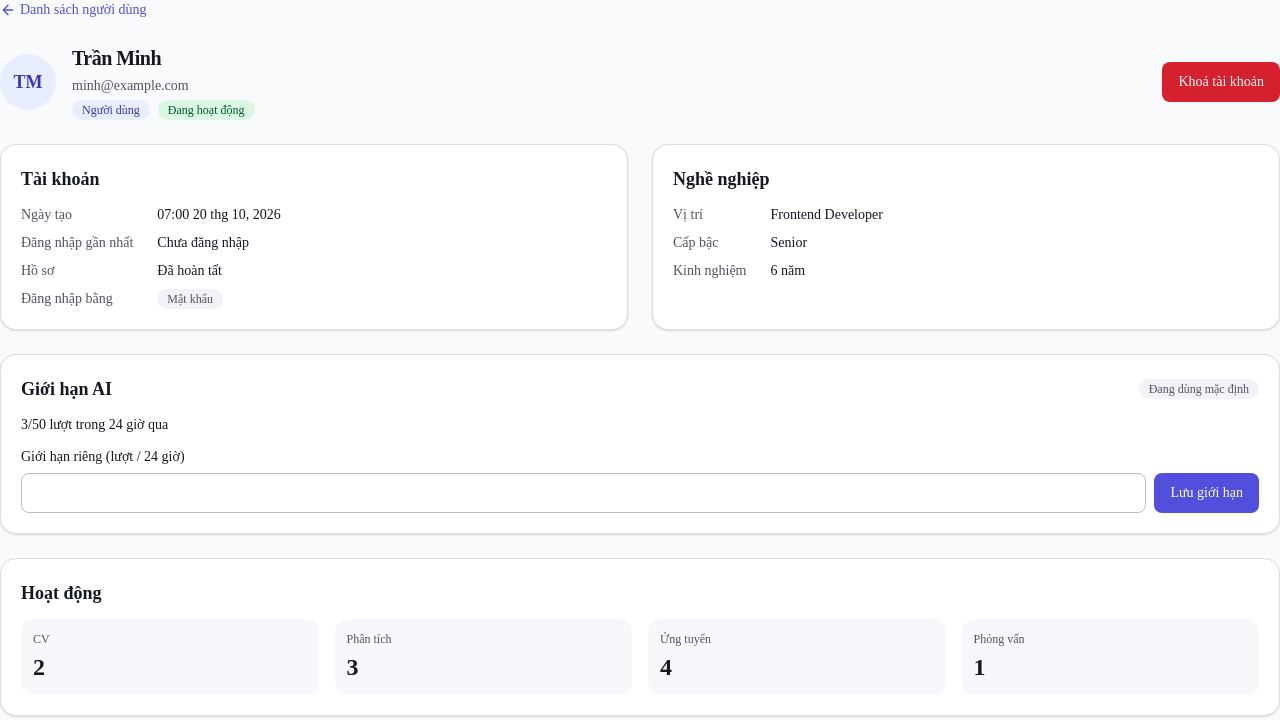
Test case: AdminUserView › disables the account after confirmation
What coordinates should you click on to do the following:
click the button "Khoá tài khoản"
I would click on:
 (1221, 82)
Its box is [1162, 62, 1279, 102].
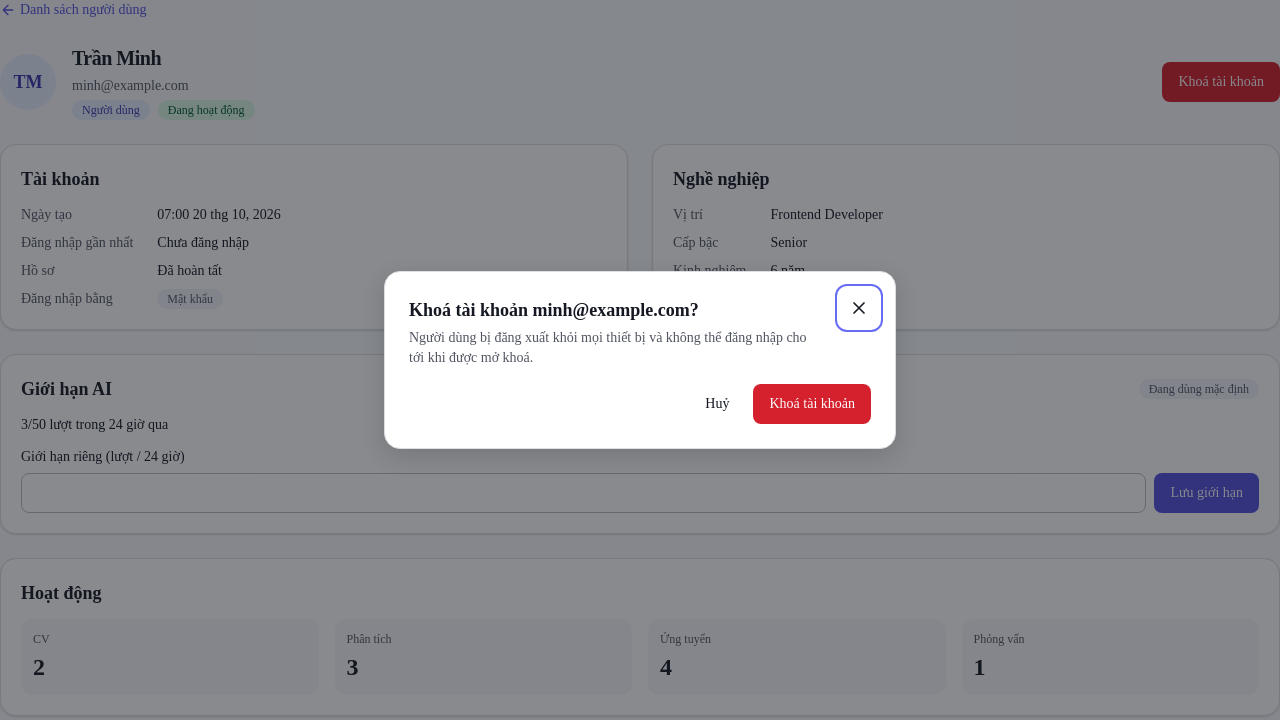
What coordinates should you click on to do the following:
click the button "Khoá tài khoản" below "Khoá tài khoản minh@example.com?"
I would click on:
 (812, 404)
Its box is [754, 384, 871, 424].
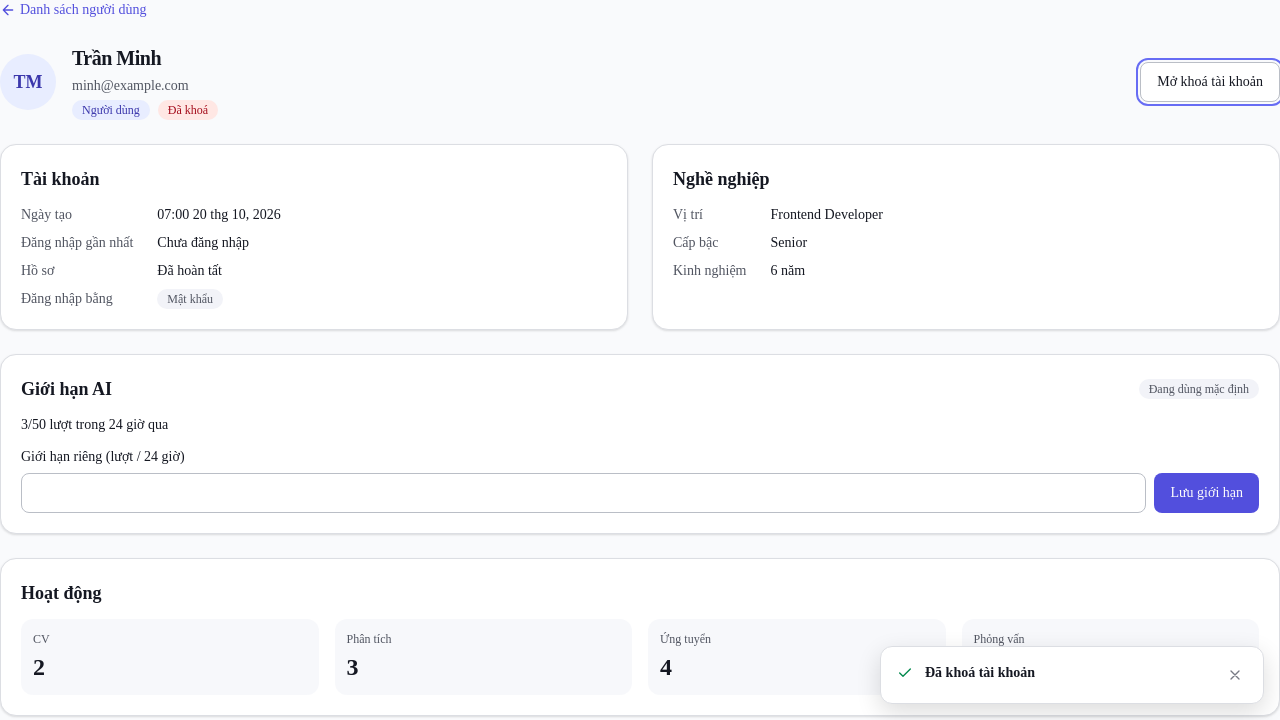
Result: the text "Đã khoá tài khoản" is shown at [925, 665, 1035, 680]
Result: the button "Mở khoá tài khoản" is shown at [1140, 62, 1279, 102]
